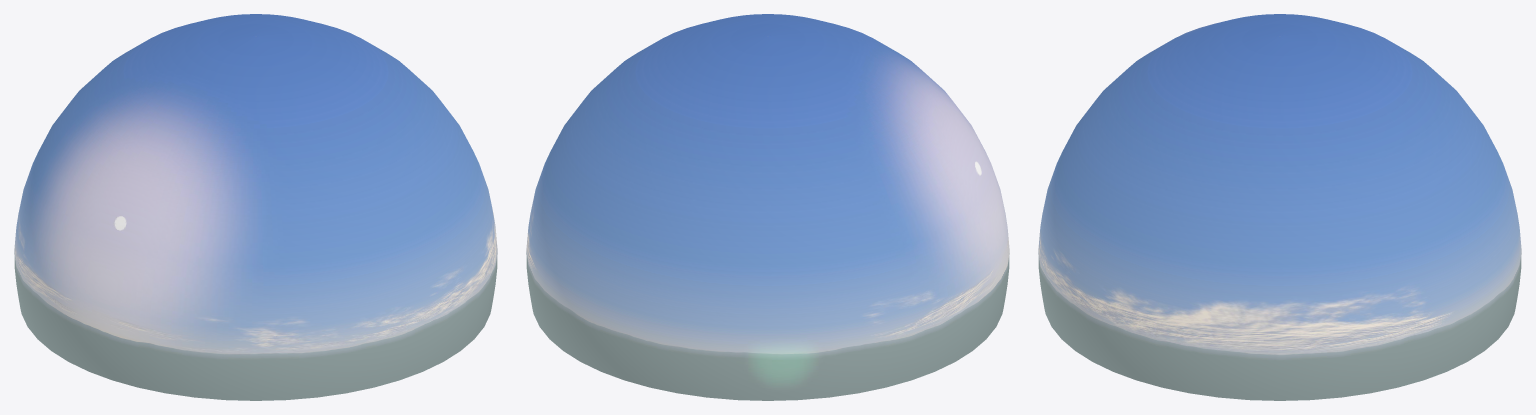
The model's file is poppy_field.gltf.
3 renders of one model, left to right at view 1: azimuth 30°, elevation 25°; view 2: azimuth 150°, elevation 25°; view 3: azimuth 270°, elevation 25°, orthographic.
Parts seen in each view (by area): view 1: SkyDome; view 2: SkyDome; view 3: SkyDome.
Boxes of the visible parts, x1=… form: SkyDome: x1=14, y1=14, x2=497, y2=400; SkyDome: x1=526, y1=14, x2=1009, y2=400; SkyDome: x1=1038, y1=14, x2=1521, y2=400.
Size of the model in its own units: 230 by 139 by 230.
12 materials, 12 textured.
